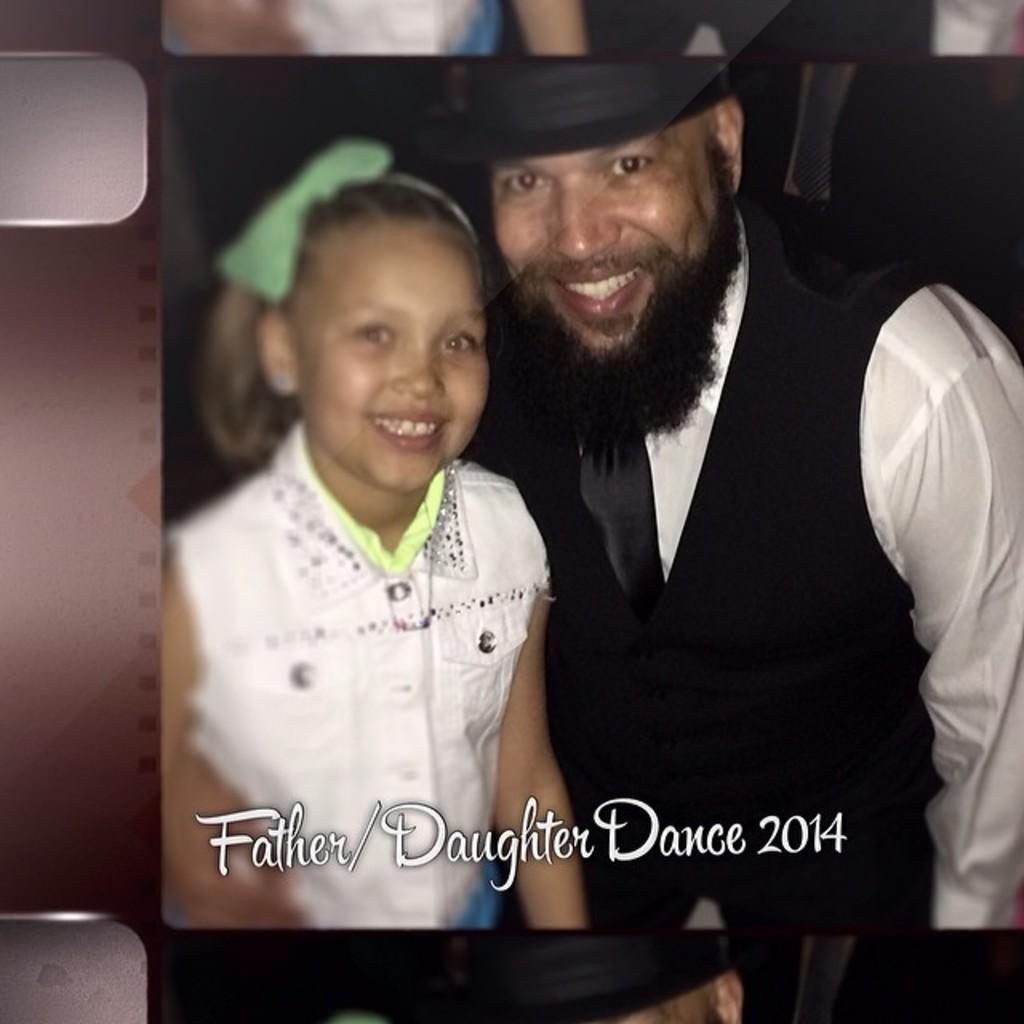Hat: (409, 61, 742, 165)
